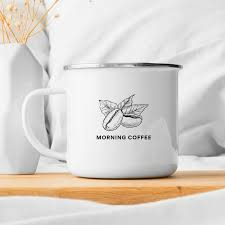mug: (5, 57, 190, 176)
